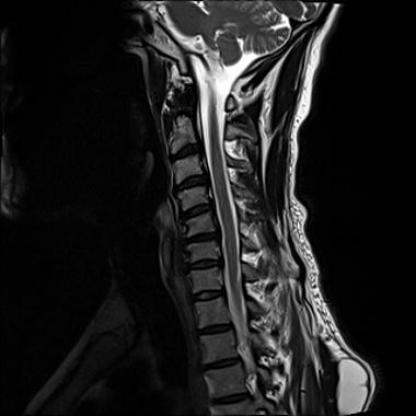Disc Bulgerotation: (171, 174, 210, 192), (167, 143, 202, 161), (177, 204, 215, 220), (186, 256, 222, 272), (183, 231, 221, 246)
Disc Protrusionrotation: (167, 143, 202, 161), (177, 204, 215, 220), (186, 256, 222, 272), (183, 231, 221, 246)
